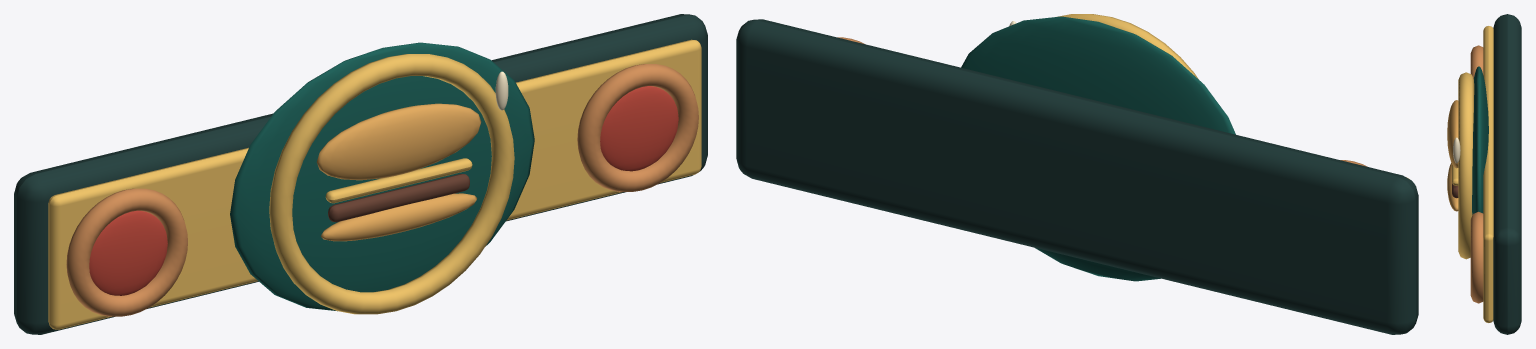
3 views of the same model, side by side, from view 1: azimuth 30°, elevation 25°; view 2: azimuth 150°, elevation 25°; view 3: azimuth 270°, elevation 25° (orthographic). The views are drawn at different scales.
Parts seen in each view (by area): view 1: Gold belt backing, Burger medallion, Championship leather, Side medal, Relief bun, Side enamel, Relief patty; view 2: Championship leather, Burger medallion, Gold belt backing; view 3: Championship leather, Gold belt backing, Burger medallion, Side medal, Relief bun, Enamel glint, Relief patty.
Boxes of the visible parts, x1,y1,x2,y2 form: Gold belt backing: [48, 39, 701, 329]; Burger medallion: [230, 42, 534, 311]; Championship leather: [14, 14, 707, 334]; Side medal: [66, 64, 698, 316]; Relief bun: [316, 103, 481, 241]; Side enamel: [89, 86, 678, 295]; Relief patty: [328, 174, 469, 222]; Championship leather: [736, 19, 1418, 334]; Burger medallion: [961, 16, 1235, 281]; Gold belt backing: [1057, 14, 1409, 179]; Championship leather: [1493, 14, 1521, 334]; Gold belt backing: [1452, 26, 1493, 322]; Burger medallion: [1472, 66, 1488, 214]; Side medal: [1470, 45, 1483, 303]; Relief bun: [1447, 100, 1458, 211]; Enamel glint: [1453, 137, 1460, 163]; Relief patty: [1452, 183, 1458, 198].
Bounding box in the file's own units: 1.67 × 0.6 × 0.235.
